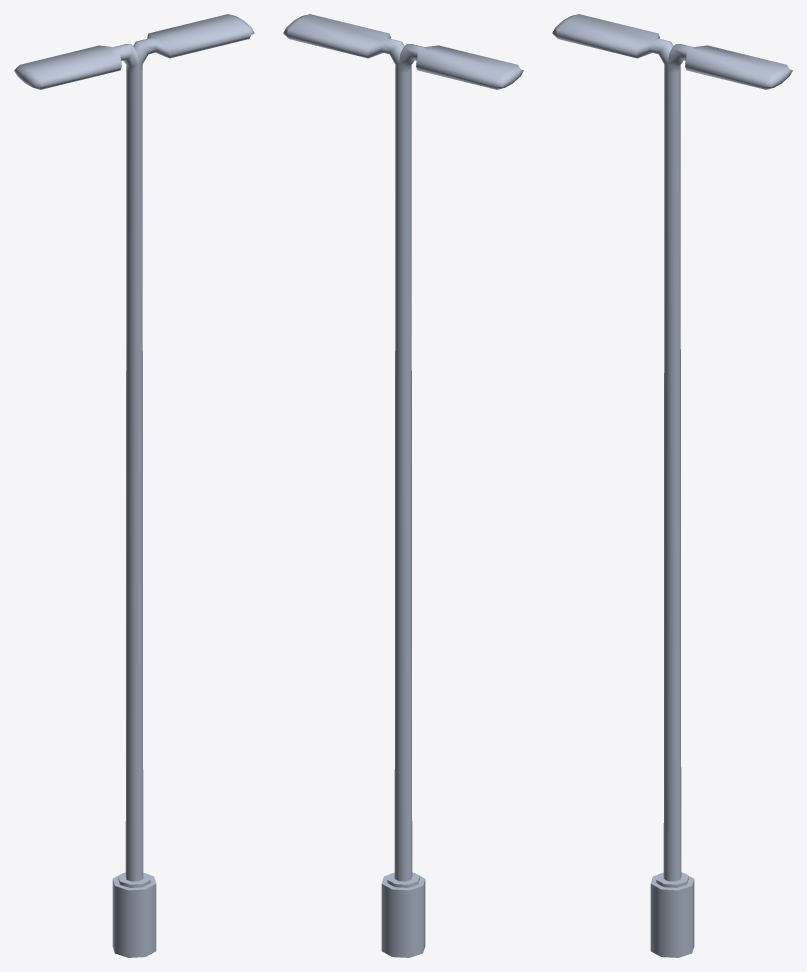
The model's file is Streetlights_001.glb.
3 renders of one model, left to right at view 1: azimuth 30°, elevation 25°; view 2: azimuth 150°, elevation 25°; view 3: azimuth 330°, elevation 25°, orthographic.
Visible parts, largest first — view 1: Streetlights.001; view 2: Streetlights.001; view 3: Streetlights.001.
Boxes of the visible parts, box(x1,y1,x2,y2) form: Streetlights.001: box(14, 14, 254, 957); Streetlights.001: box(283, 14, 523, 957); Streetlights.001: box(552, 14, 792, 957).
Size of the model in its own units: 11.3 by 44.15 by 2.12.
2 materials, 1 textured.
